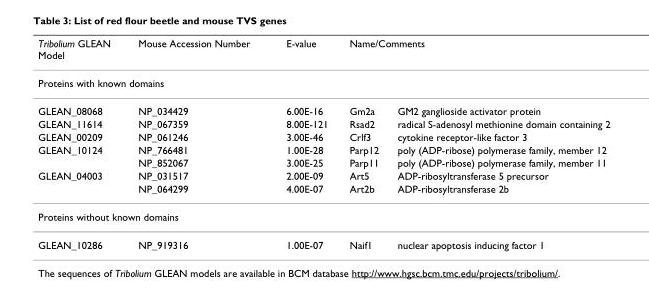table: (37, 36, 609, 250)
table column: (387, 36, 609, 250), (123, 36, 267, 250), (37, 36, 123, 250), (267, 36, 338, 250), (338, 36, 387, 250)
table column header: (37, 36, 609, 117)
table projected row header: (37, 202, 609, 230)
table row: (37, 36, 609, 68), (37, 68, 609, 96), (37, 202, 609, 230), (37, 96, 609, 117), (37, 181, 609, 202), (37, 230, 609, 250), (37, 117, 609, 130), (37, 130, 609, 143), (37, 155, 609, 168), (37, 168, 609, 181), (37, 143, 609, 155)
table spanning cell: (37, 68, 609, 96), (338, 36, 609, 68), (37, 168, 123, 202), (37, 143, 123, 168)
